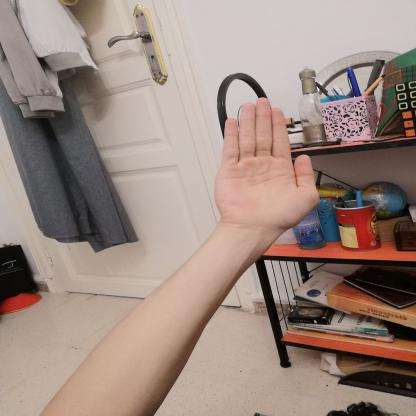SEEN: (203, 91, 328, 243)
